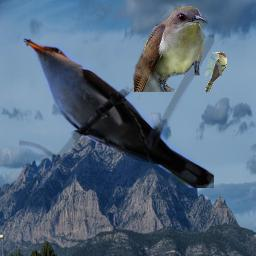Cuckoo: (19, 35, 214, 188), (133, 6, 208, 92), (205, 52, 227, 93)
